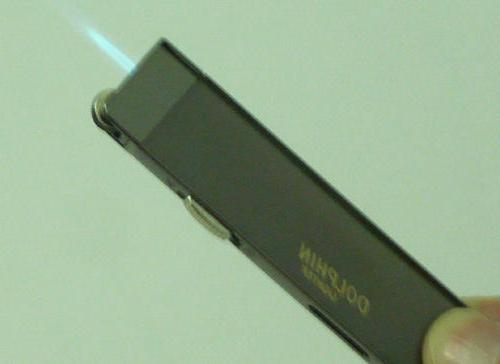fire: (77, 23, 145, 87)
